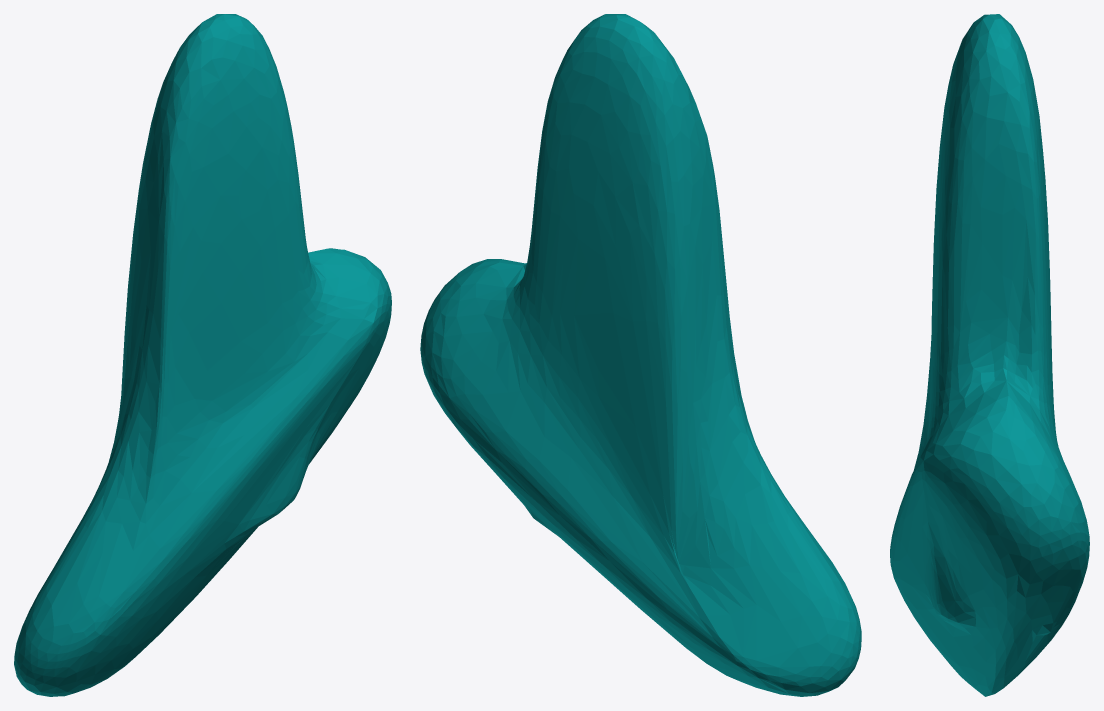
The picture shows the model from 3 angles, left to right: view 1: azimuth 30°, elevation 25°; view 2: azimuth 150°, elevation 25°; view 3: azimuth 270°, elevation 25°; orthographic projection. The views are drawn at different scales.
Visible parts, largest first — view 1: 428_Cube.1740; view 2: 428_Cube.1740; view 3: 428_Cube.1740.
Part boxes in pixels (box(x1,y1,x2,y2)): 428_Cube.1740: box(14, 14, 391, 696); 428_Cube.1740: box(420, 14, 861, 696); 428_Cube.1740: box(890, 14, 1089, 696).
Size of the model in its own units: 9.26 by 14.24 by 3.46.
